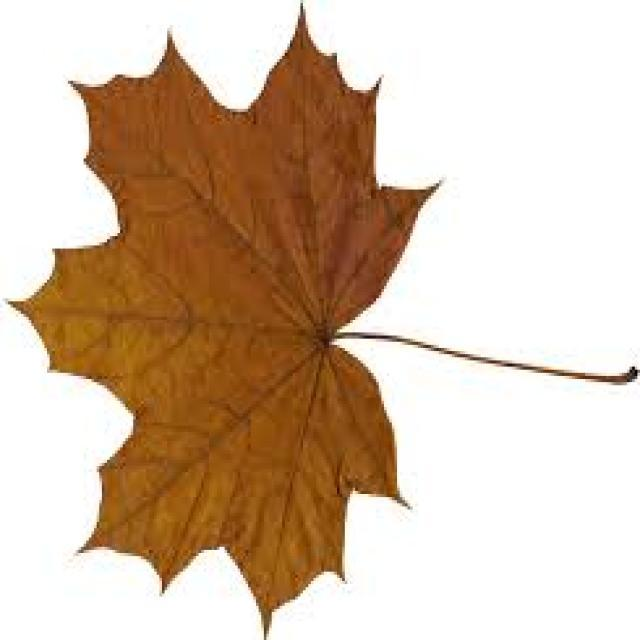leaf: (4, 1, 637, 637)
